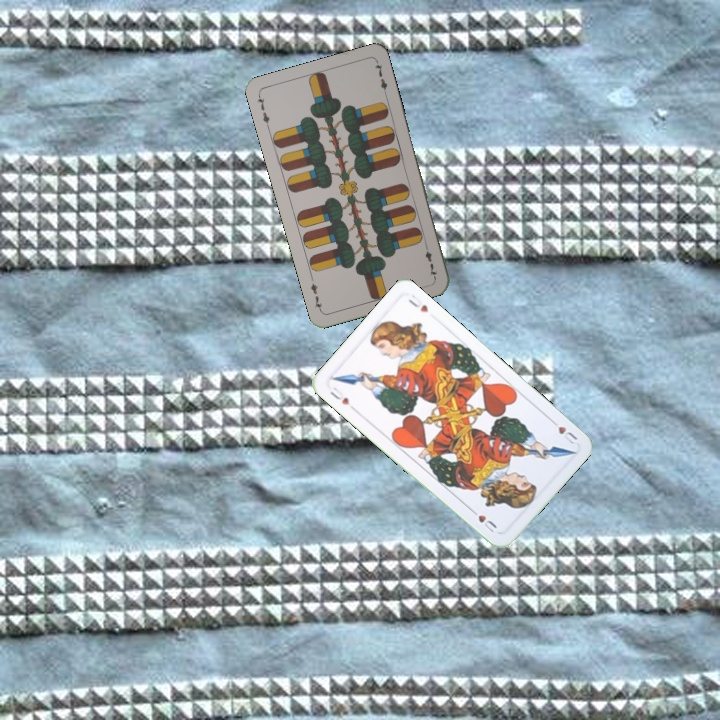E7: (421, 240, 440, 280), (253, 91, 272, 131)
HU: (546, 415, 580, 448), (326, 383, 358, 413)
